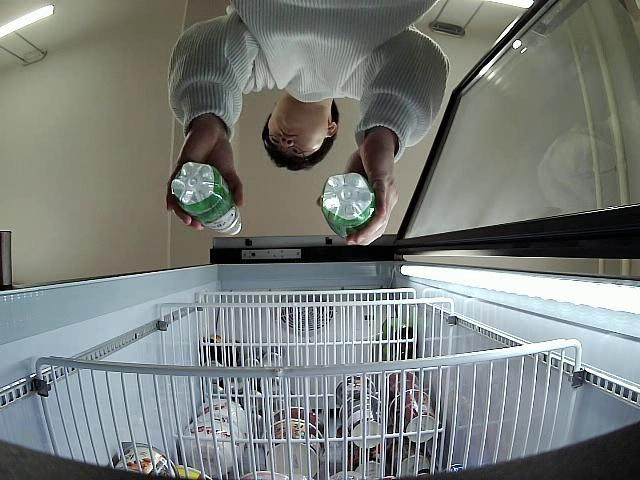18_trevi: (170, 161, 242, 238), (322, 173, 378, 238)
